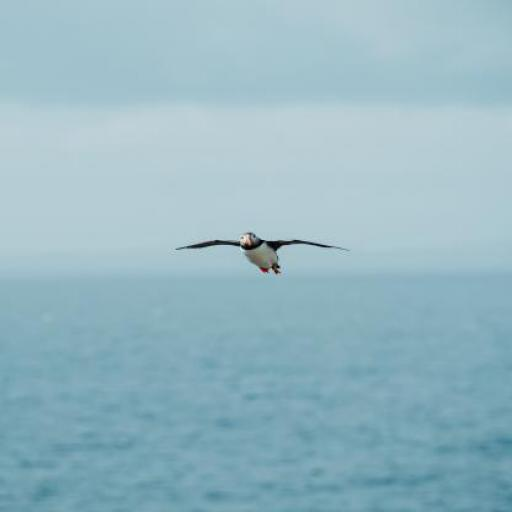bird: (176, 232, 351, 274)
